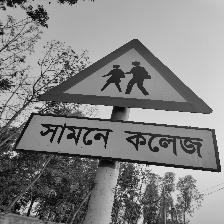College-in-front: (5, 33, 224, 181)
